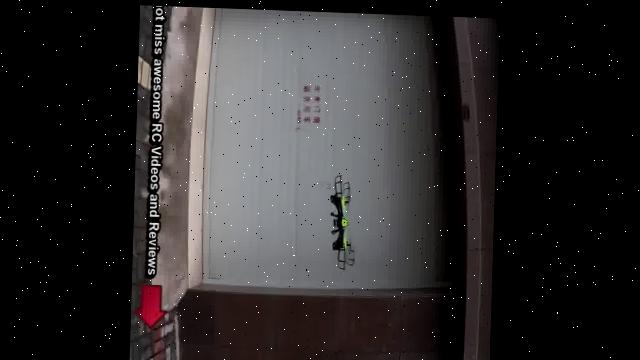drone: (320, 166, 364, 275)
